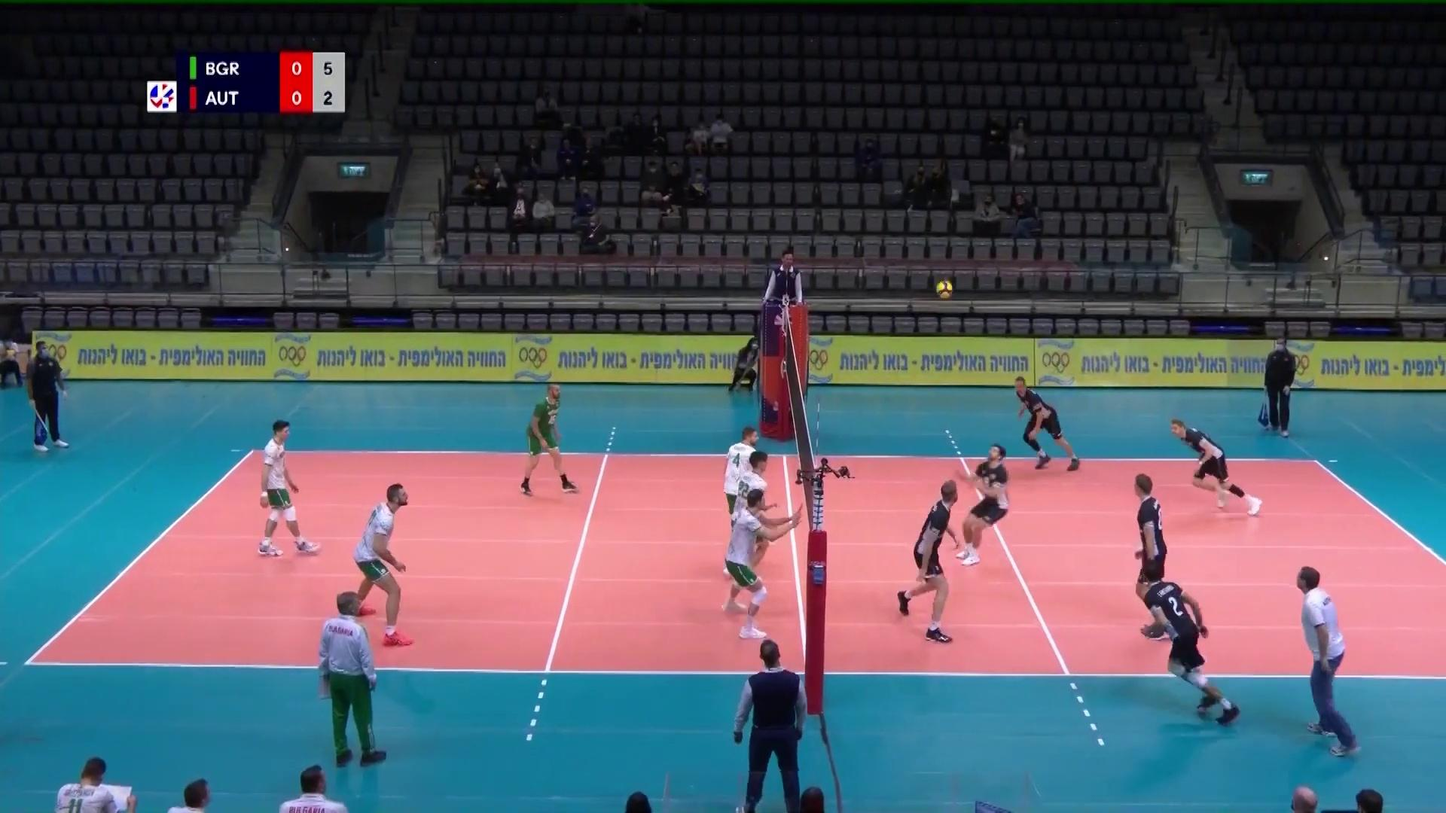ball: (936, 280, 953, 298)
